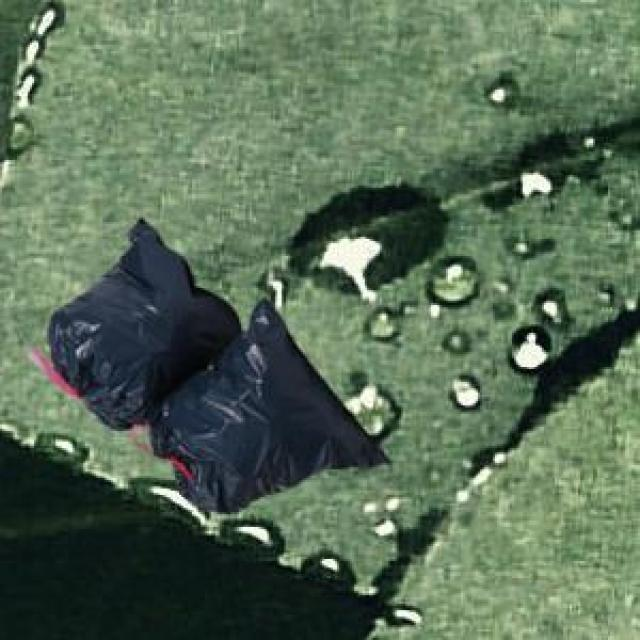miscellaneous trash: (24, 216, 386, 510)
